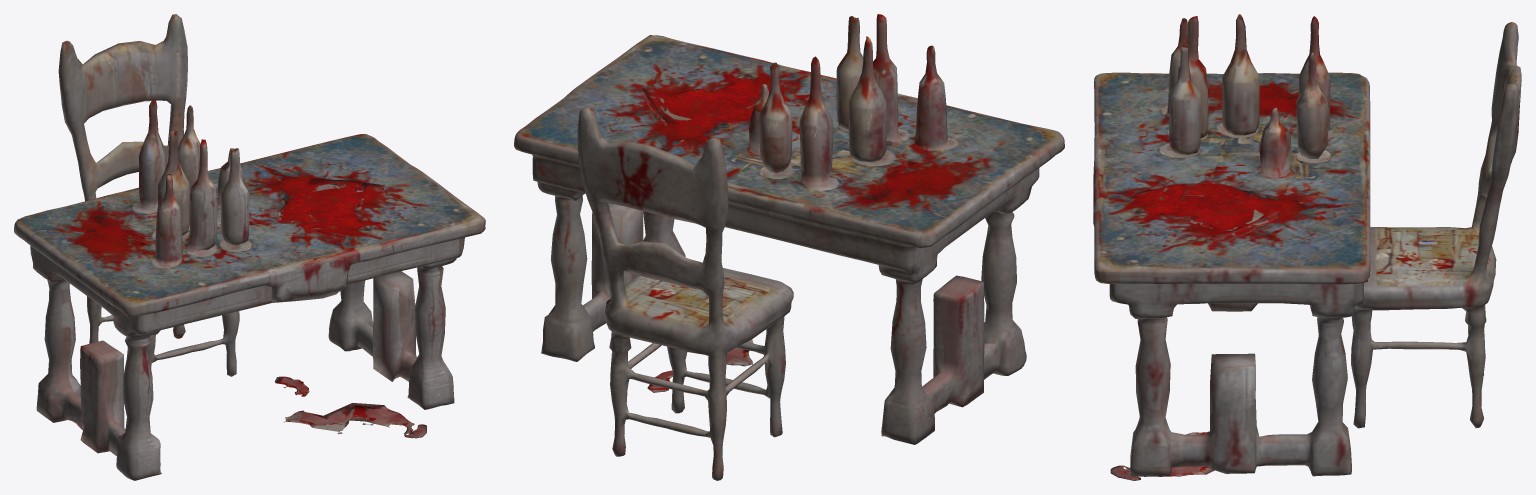
File: old_creepy_game_asset_0124154807_stylize.fbx
3 views of the same model, side by side, from view 1: azimuth 30°, elevation 25°; view 2: azimuth 150°, elevation 25°; view 3: azimuth 270°, elevation 25° (orthographic). The views are drawn at different scales.
Visible parts, largest first — view 1: Mesh_0.008; view 2: Mesh_0.008; view 3: Mesh_0.008.
Part boxes in pixels (<box>): Mesh_0.008: <box>14,14,485,480</box>; Mesh_0.008: <box>514,14,1064,480</box>; Mesh_0.008: <box>1093,14,1521,480</box>.
Size of the model in its own units: 1193 by 1000 by 1083.
Materials: 1 (1 with a texture image).
